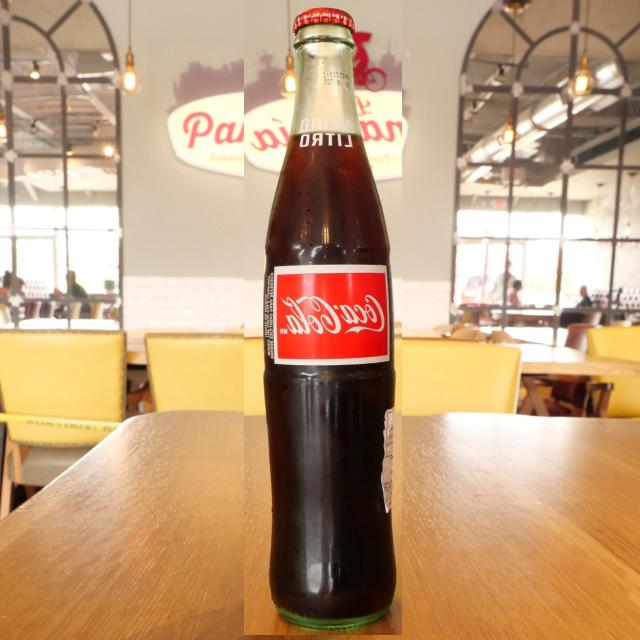coca-cola: (244, 0, 402, 635)
